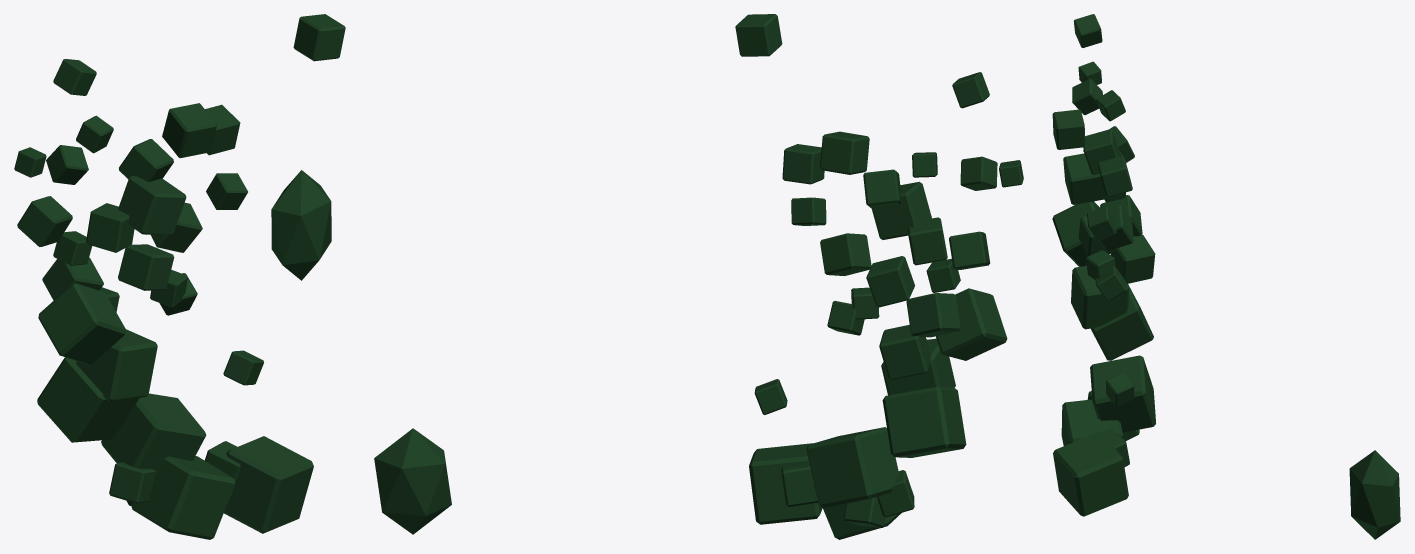
Rendered from crown_Corruption.fbx.
3 renders of one model, left to right at view 1: azimuth 30°, elevation 25°; view 2: azimuth 150°, elevation 25°; view 3: azimuth 270°, elevation 25°, orthographic. The views are drawn at different scales.
Visible parts, largest first — view 1: Corruption; view 2: Corruption; view 3: Corruption.
Part boxes in pixels (bbox=[...]): Corruption: bbox=[14, 14, 345, 539]; Corruption: bbox=[374, 14, 1023, 539]; Corruption: bbox=[1052, 14, 1400, 539].
Bounding box in the file's own units: 0.9398 × 0.9332 × 0.7111.
